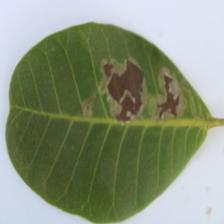leaf miner: (4, 20, 223, 224), (97, 56, 145, 124), (156, 66, 180, 119)
